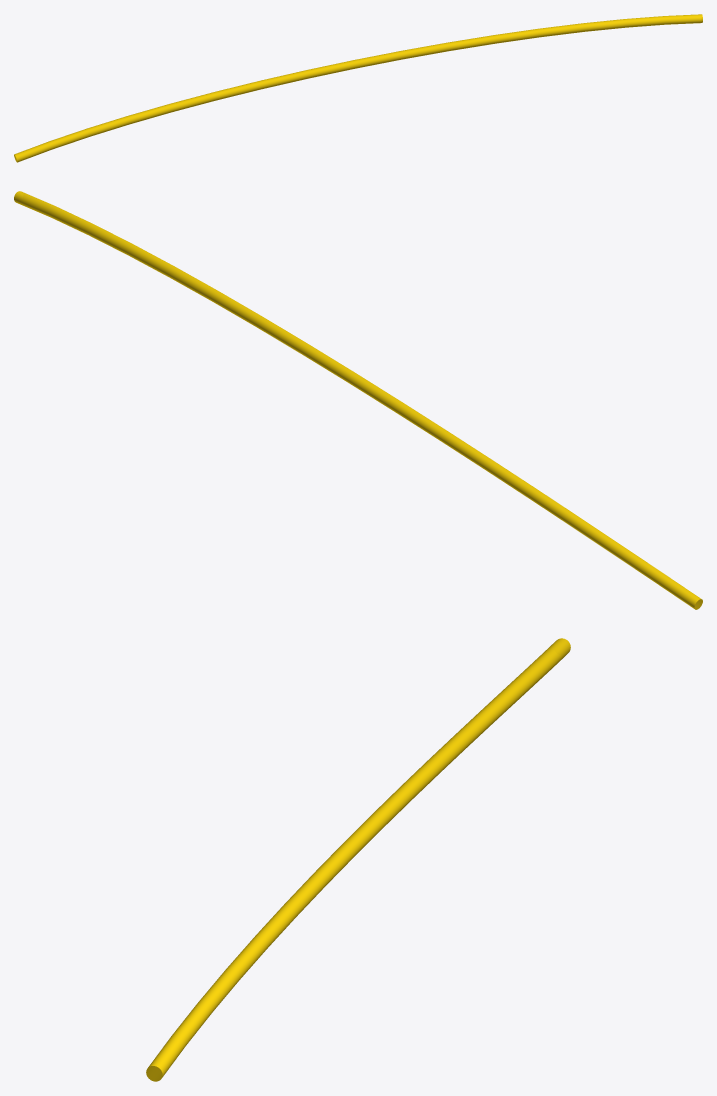
File: Event_421115418_track_70.fbx
3 views of the same model, one above another, from view 1: azimuth 30°, elevation 25°; view 2: azimuth 150°, elevation 25°; view 3: azimuth 270°, elevation 25° (orthographic). The views are drawn at different scales.
Parts seen in each view (by area): view 1: Model; view 2: Model; view 3: Model.
Part boxes in pixels (x1,y1,x2,y2): Model: (14,14,702,162); Model: (14,191,702,609); Model: (146,638,570,1081).
Size of the model in its own units: 3.09 by 0.409 by 0.9669.
